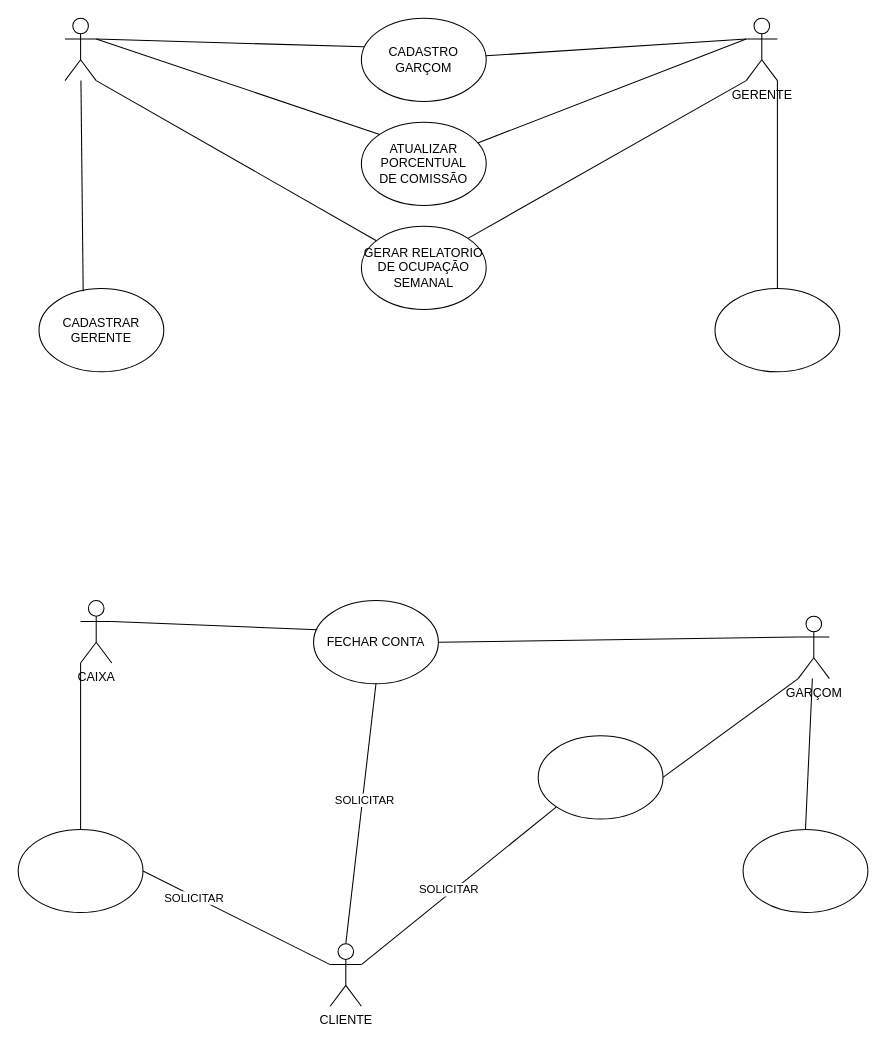
The diagram is 886 pixels wide and 1046 high, and some of its shapes have lost their labels. Each missing label, with the centre of its shape:
"ABRIR CONTA" belongs at point 80,870.
"ADICIONAR ITEM A CONTA" belongs at point 805,870.
"CANCELAR CONTA" belongs at point 600,777.
"PROPRIETARIO" belongs at point 80,49.
"VERIFICAR COMISSÕES DOS GARÇONS" belongs at point 777,330.
